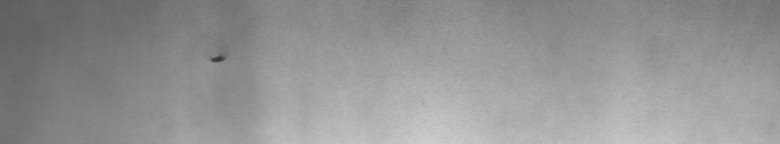fi: (207, 48, 227, 72)
